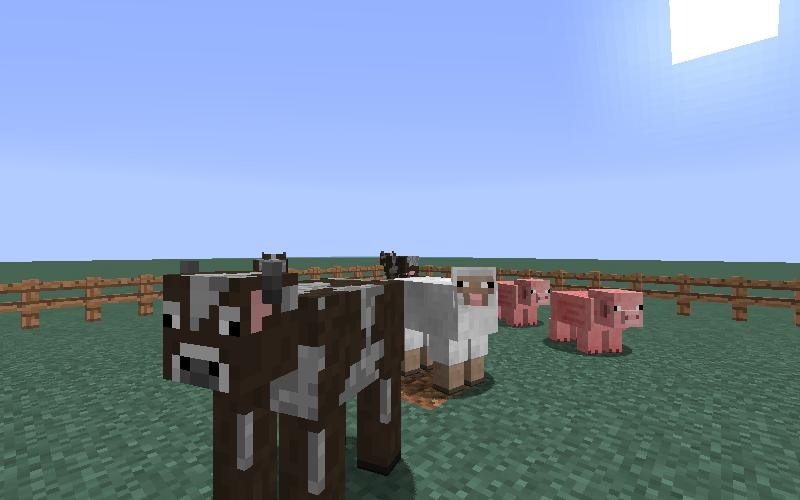cow: (160, 255, 407, 500), (378, 250, 420, 278)
pig: (548, 283, 649, 361), (498, 273, 551, 333)
sheep: (406, 261, 502, 394)
